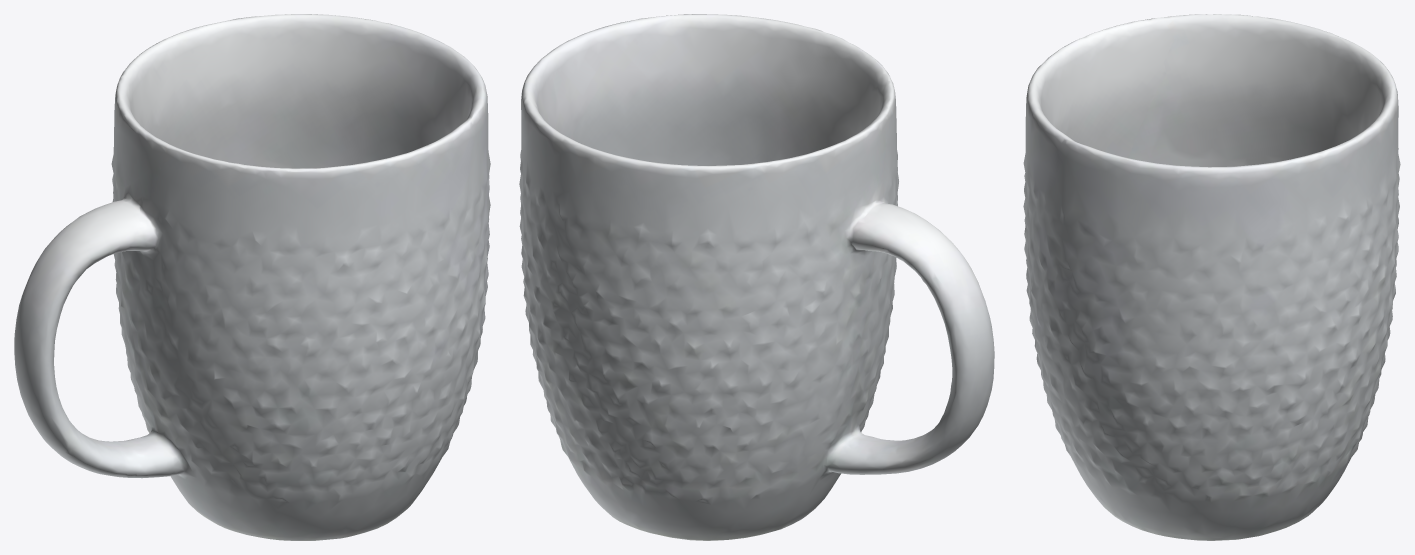
File: gso-mug.glb
3 renders of one model, left to right at view 1: azimuth 30°, elevation 25°; view 2: azimuth 150°, elevation 25°; view 3: azimuth 270°, elevation 25°, orthographic.
Visible parts, largest first — view 1: Threshold_Porcelain_Coffee_Mug_All_Over_Bead_White; view 2: Threshold_Porcelain_Coffee_Mug_All_Over_Bead_White; view 3: Threshold_Porcelain_Coffee_Mug_All_Over_Bead_White.
Boxes of the visible parts, left/top/right/bottom form: Threshold_Porcelain_Coffee_Mug_All_Over_Bead_White: left=14, top=14, right=490, bottom=540; Threshold_Porcelain_Coffee_Mug_All_Over_Bead_White: left=519, top=14, right=994, bottom=540; Threshold_Porcelain_Coffee_Mug_All_Over_Bead_White: left=1023, top=14, right=1400, bottom=540.
Bounding box in the file's own units: 0.1307 × 0.1146 × 0.0965.
Materials: 1 (1 with a texture image).
